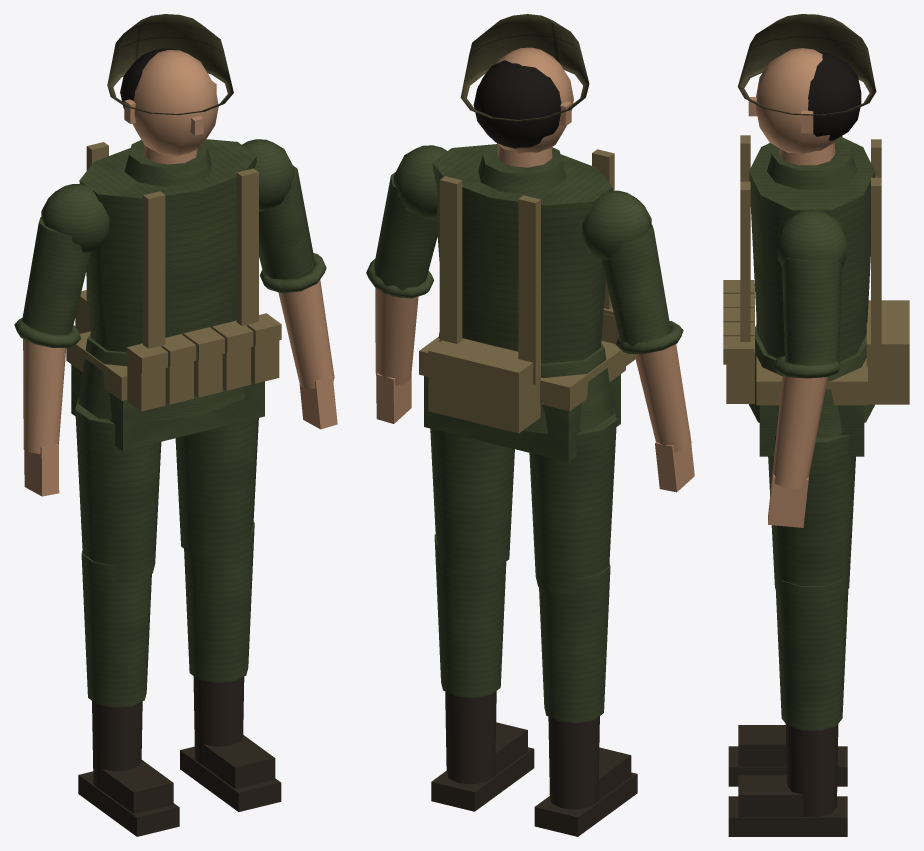
File: arvn_infantry_lod1.glb
3 renders of one model, left to right at view 1: azimuth 30°, elevation 25°; view 2: azimuth 150°, elevation 25°; view 3: azimuth 270°, elevation 25°, orthographic.
Visible parts, largest first — view 1: ARVN_Infantry; view 2: ARVN_Infantry; view 3: ARVN_Infantry.
Part boxes in pixels (x1=…): ARVN_Infantry: x1=14, y1=14, x2=337, y2=836; ARVN_Infantry: x1=366, y1=14, x2=694, y2=836; ARVN_Infantry: x1=723, y1=14, x2=909, y2=836.
Size of the model in its own units: 0.7517 by 1.8 by 0.3915.
6 materials, 2 textured.
